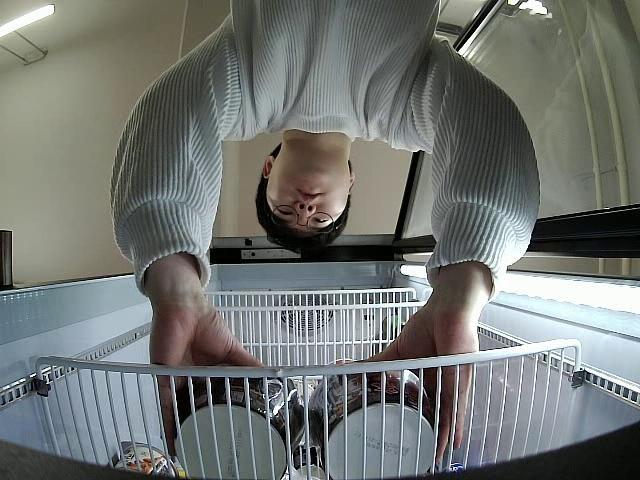07_buldak_L: (307, 361, 437, 480), (174, 366, 303, 480)
